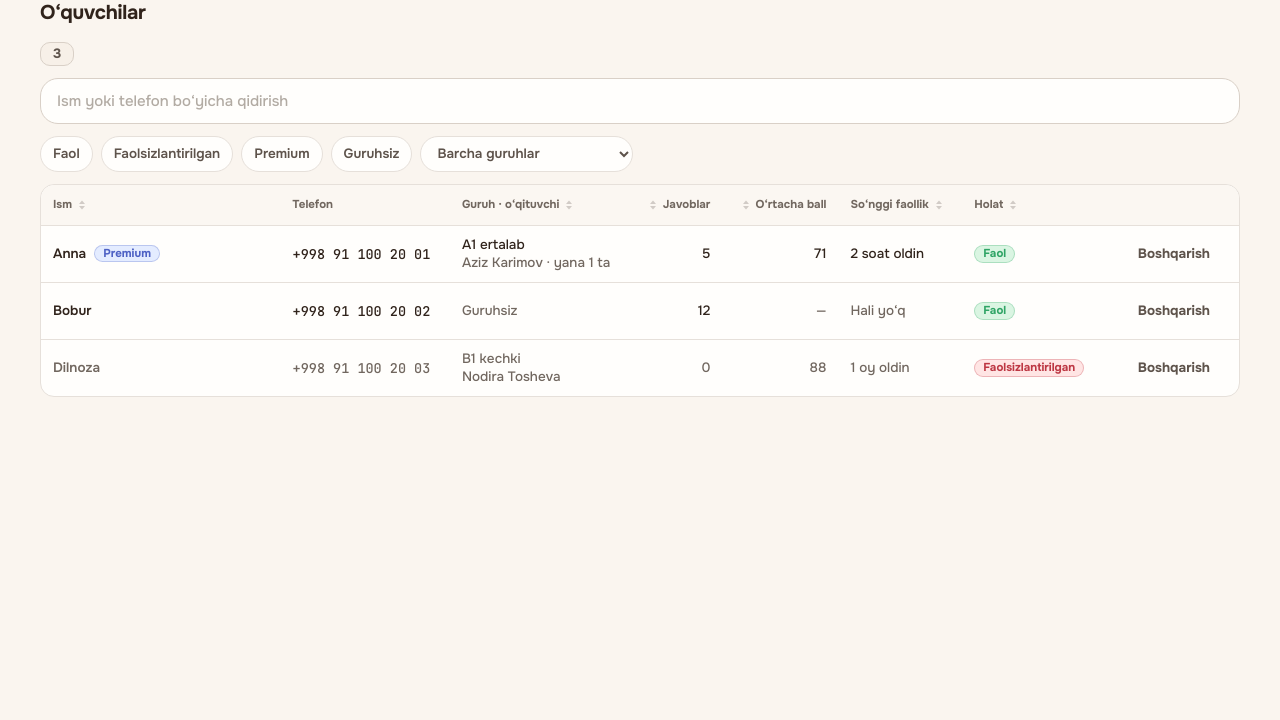
Test: students table › opens the manage sheet from the row action
Click the button "Boshqarish" in the row of "Bobur".
click(1174, 310)  # box [1121,290,1227,330]
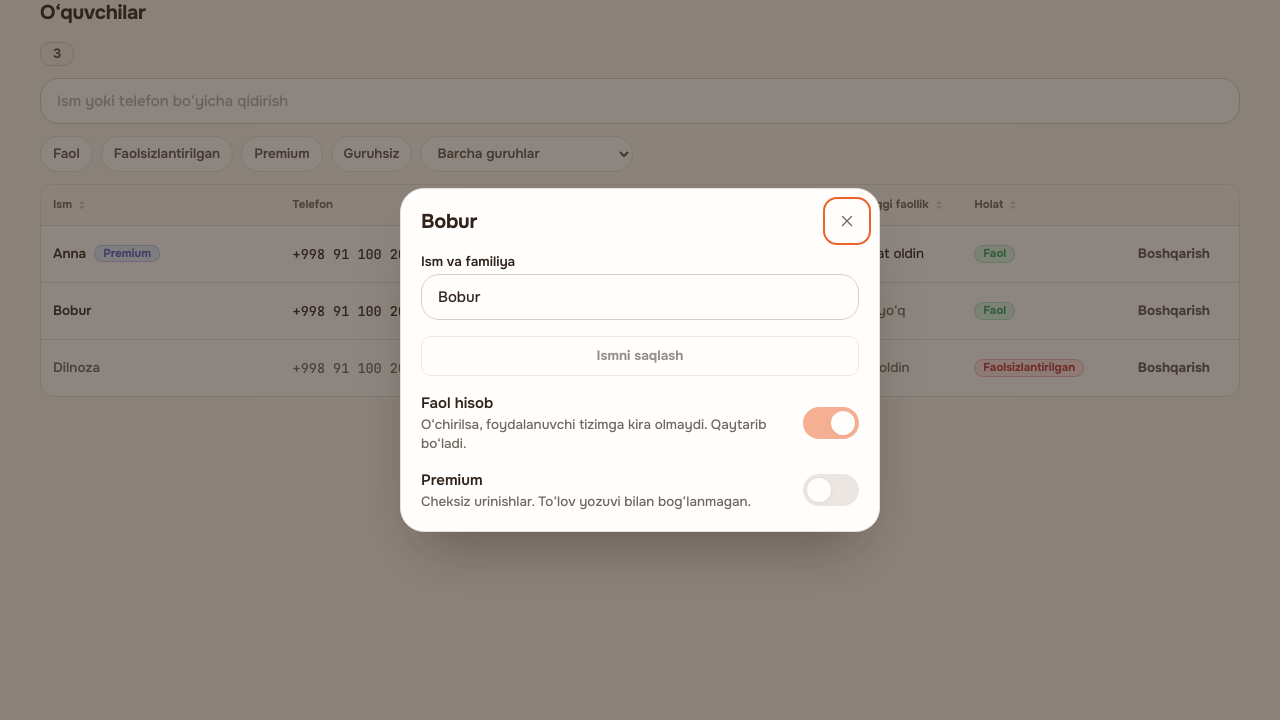
Check: the dialog "Bobur" is shown, box [400,188,880,532]
